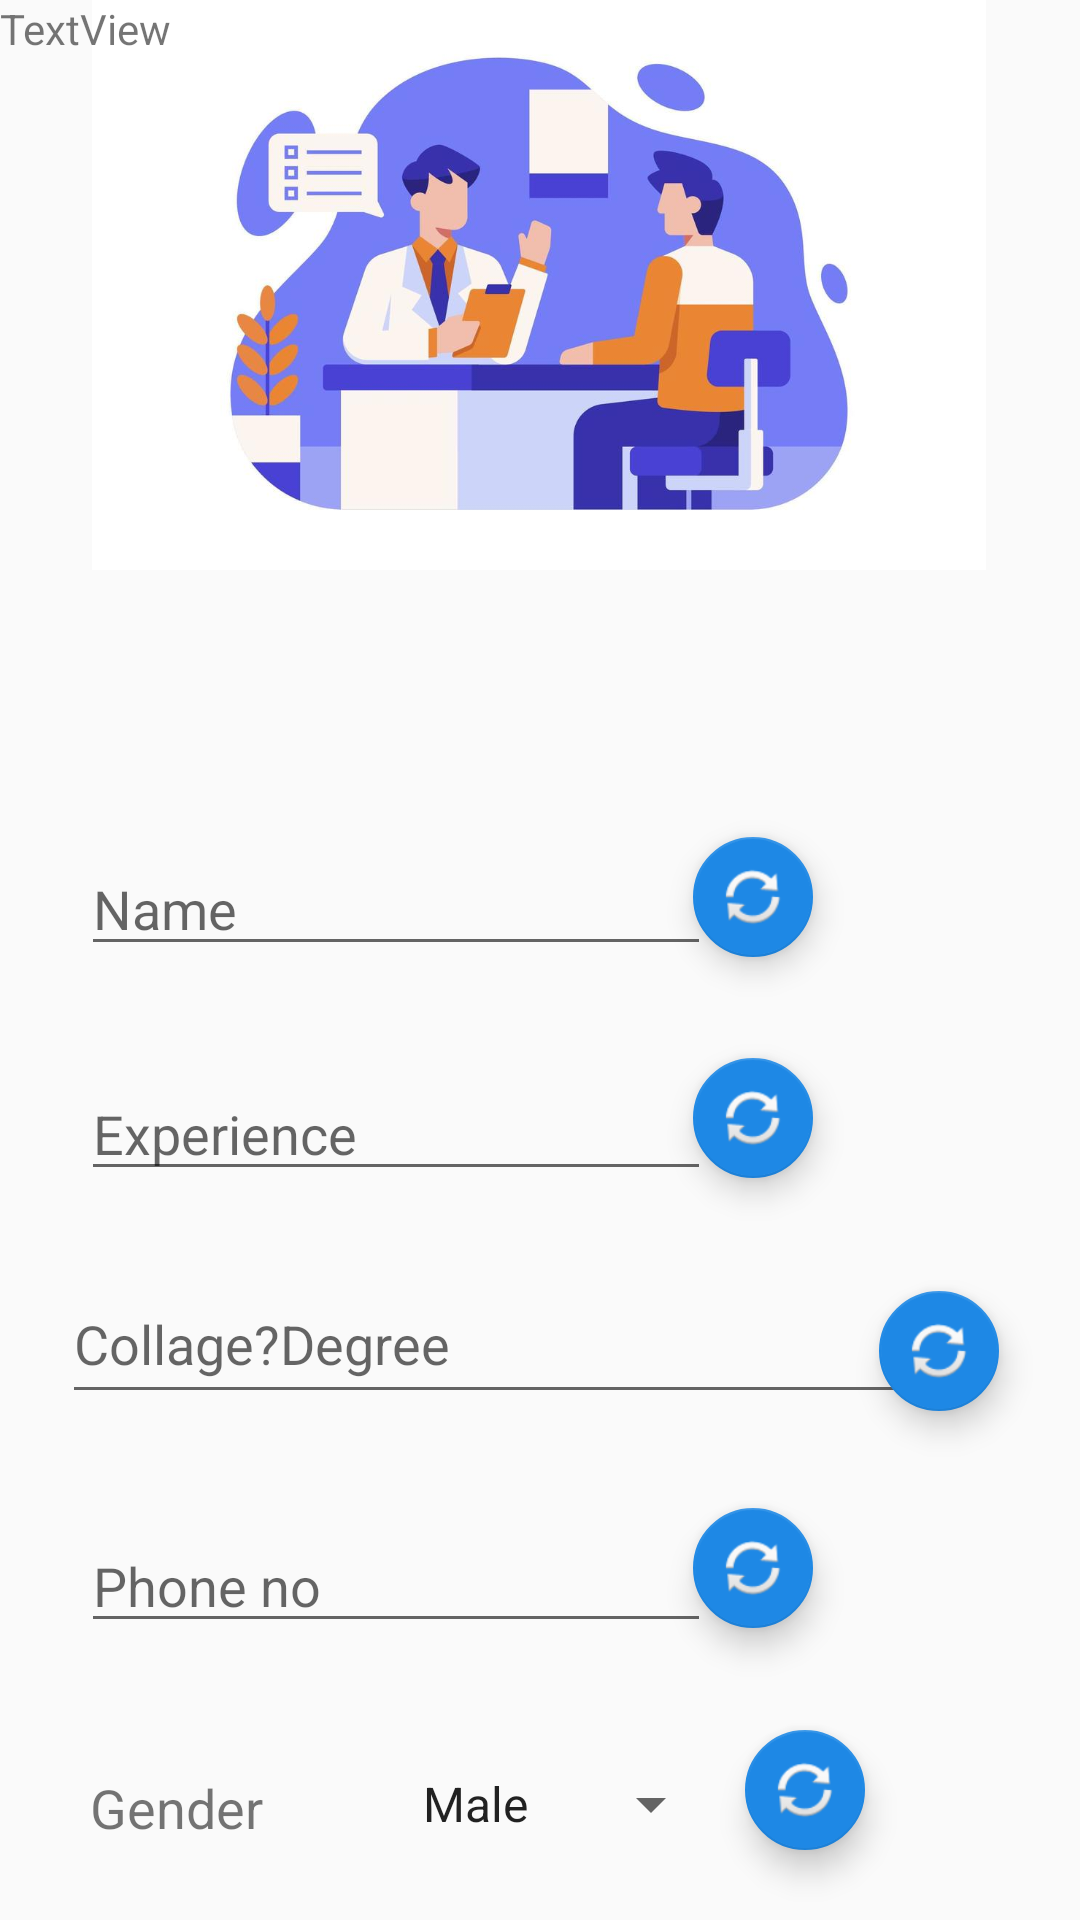

Screen size 1080x1920. Icon name, then its center in pixels as (x,y):
popup sync: (753,897), (753,1118), (939,1351), (753,1568), (805,1790)
